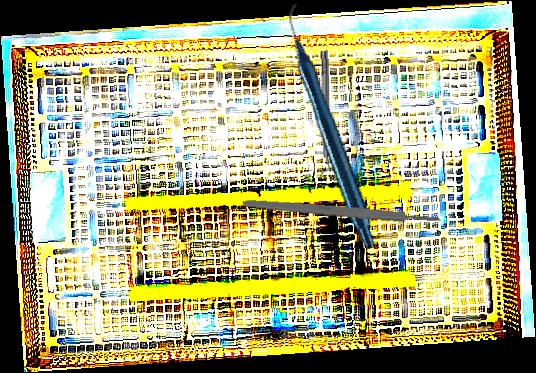Fixation Ring: (315, 50, 338, 182)
Handpiece: (228, 1, 437, 251)
Scalpel Handle: (241, 197, 442, 226)
